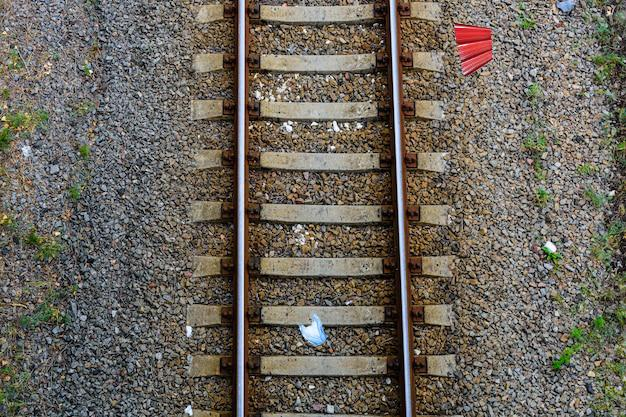Color_steel: (447, 17, 508, 85)
Plastic: (298, 305, 326, 349)
